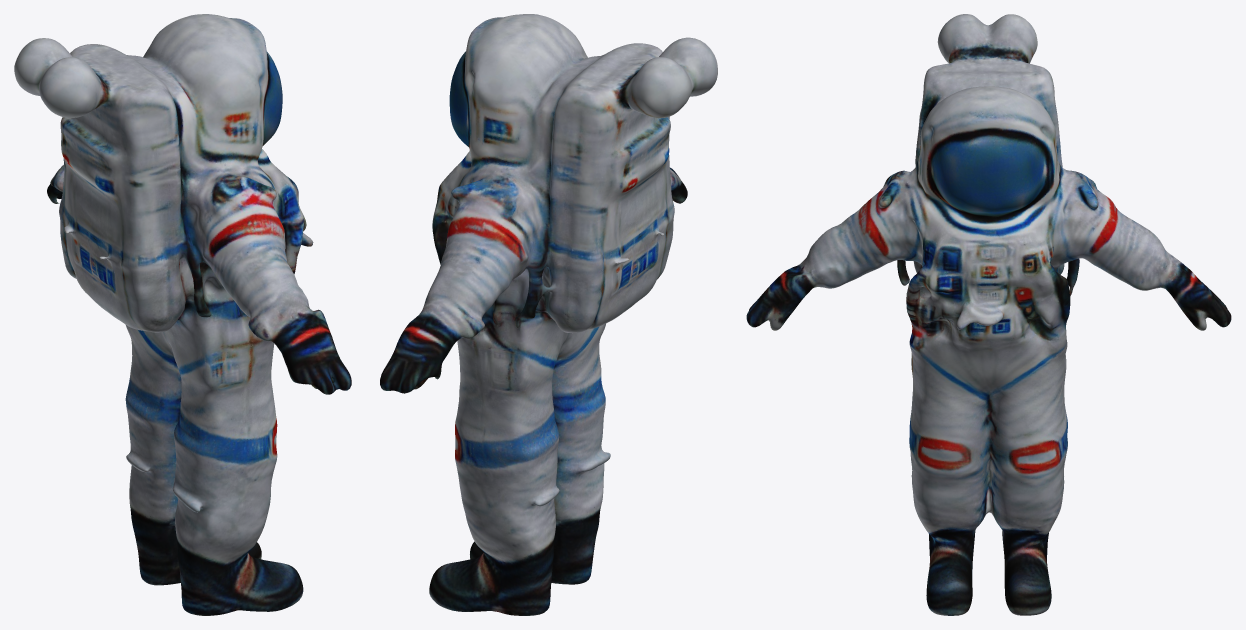
The model's file is astronaught.glb.
The picture shows the model from 3 angles, left to right: view 1: azimuth 30°, elevation 25°; view 2: azimuth 150°, elevation 25°; view 3: azimuth 270°, elevation 25°; orthographic projection. The views are drawn at different scales.
Visible parts, largest first — view 1: high_poly; view 2: high_poly; view 3: high_poly.
Boxes of the visible parts, bbox=[...] form: high_poly: bbox=[14, 14, 351, 615]; high_poly: bbox=[380, 14, 717, 615]; high_poly: bbox=[746, 14, 1231, 615].
Size of the model in its own units: 0.48 by 1 by 0.8614.
1 material, 1 textured.
